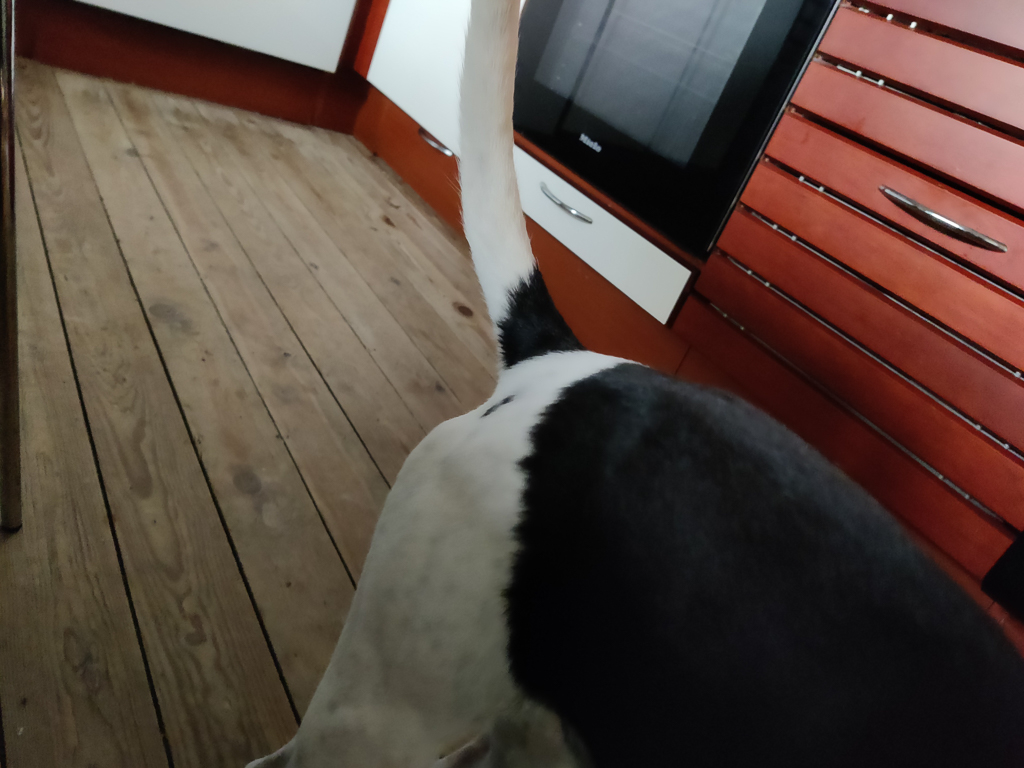Dog: (220, 0, 1024, 768)
